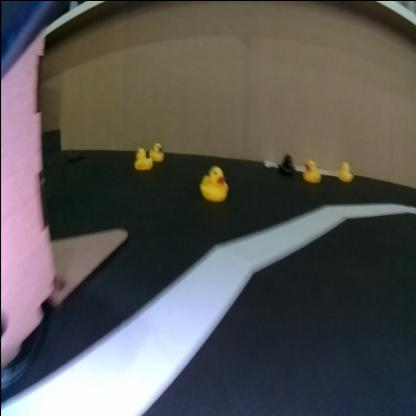Duckie: (200, 165, 228, 199), (134, 146, 153, 168), (302, 159, 320, 181), (337, 160, 353, 180), (152, 142, 163, 160)
